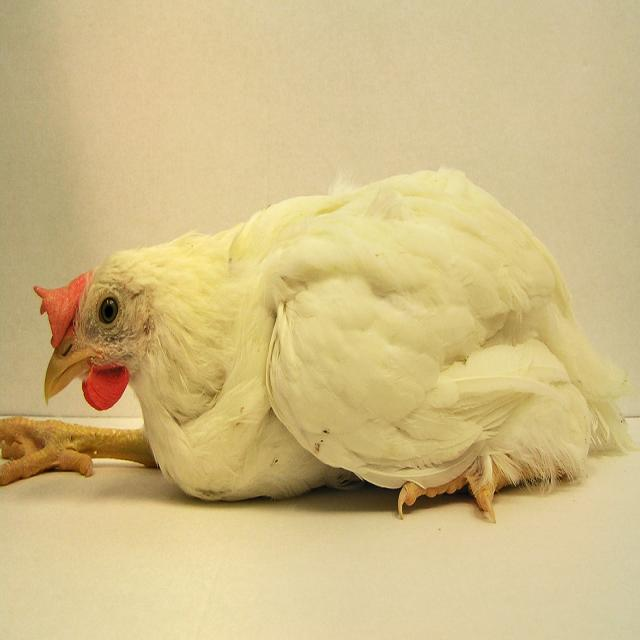abnormal chicken: (0, 156, 640, 576)
